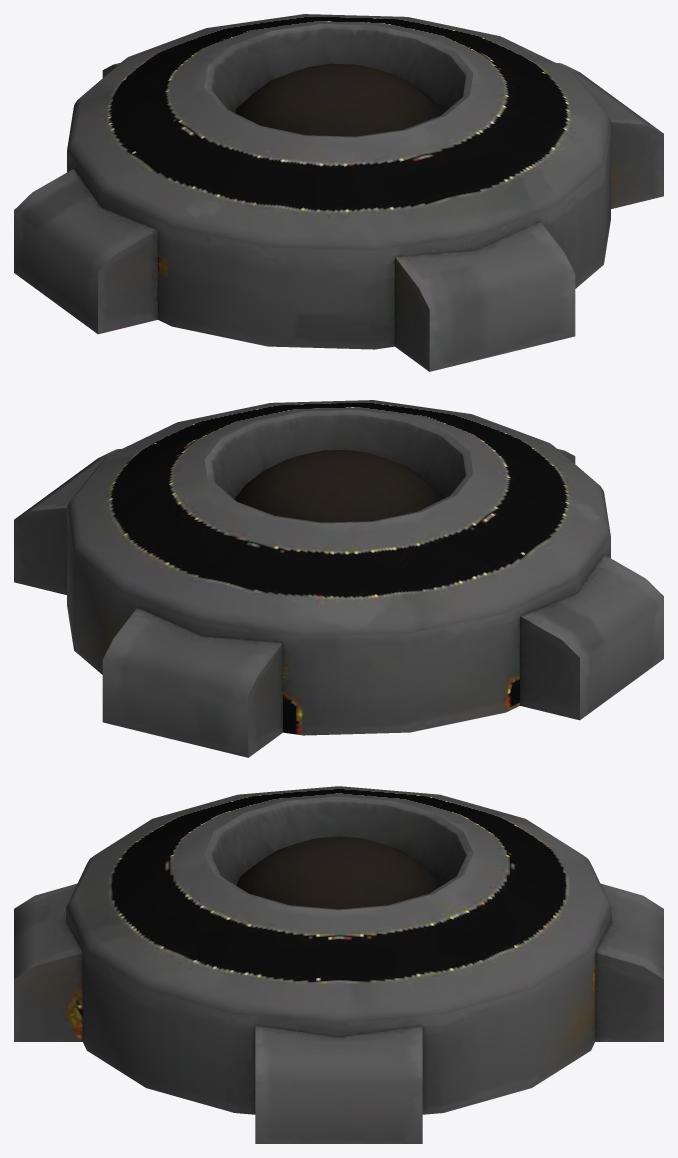
3 renders of one model, top to bottom at view 1: azimuth 30°, elevation 25°; view 2: azimuth 150°, elevation 25°; view 3: azimuth 270°, elevation 25°, orthographic.
Parts seen in each view (by area): view 1: body0_model0_lod0_mesh0; view 2: body0_model0_lod0_mesh0; view 3: body0_model0_lod0_mesh0.
Boxes of the visible parts, x1,y1,x2,y2 form: body0_model0_lod0_mesh0: (14,14,663,371); body0_model0_lod0_mesh0: (14,400,663,757); body0_model0_lod0_mesh0: (14,786,663,1143).
Size of the model in its own units: 34.37 by 9.04 by 34.37.
1 material, 1 textured.
